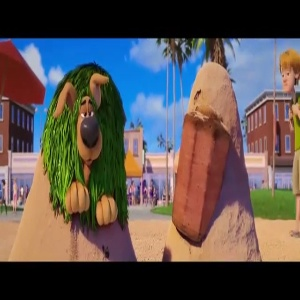Scooby: (54, 72, 115, 163)
